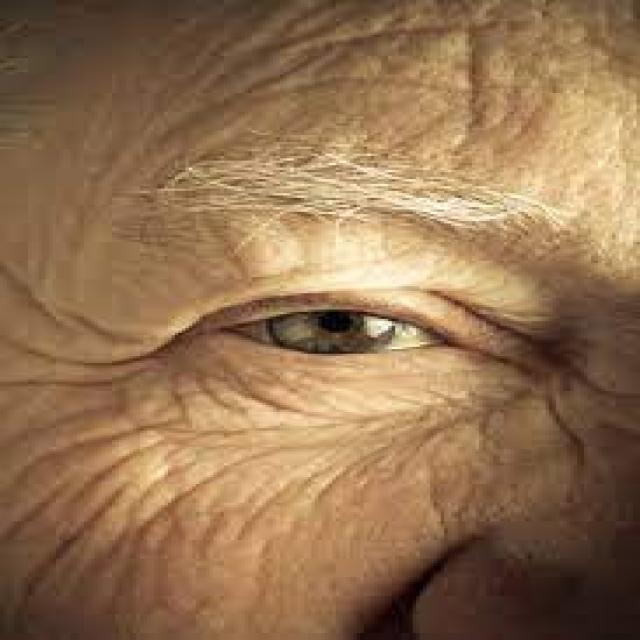Wrinkles: (1, 15, 590, 627)
